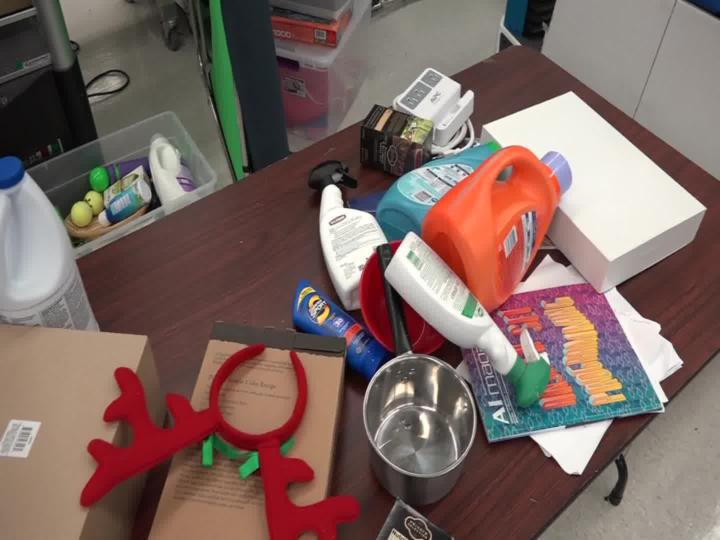downy: (361, 135, 505, 265)
